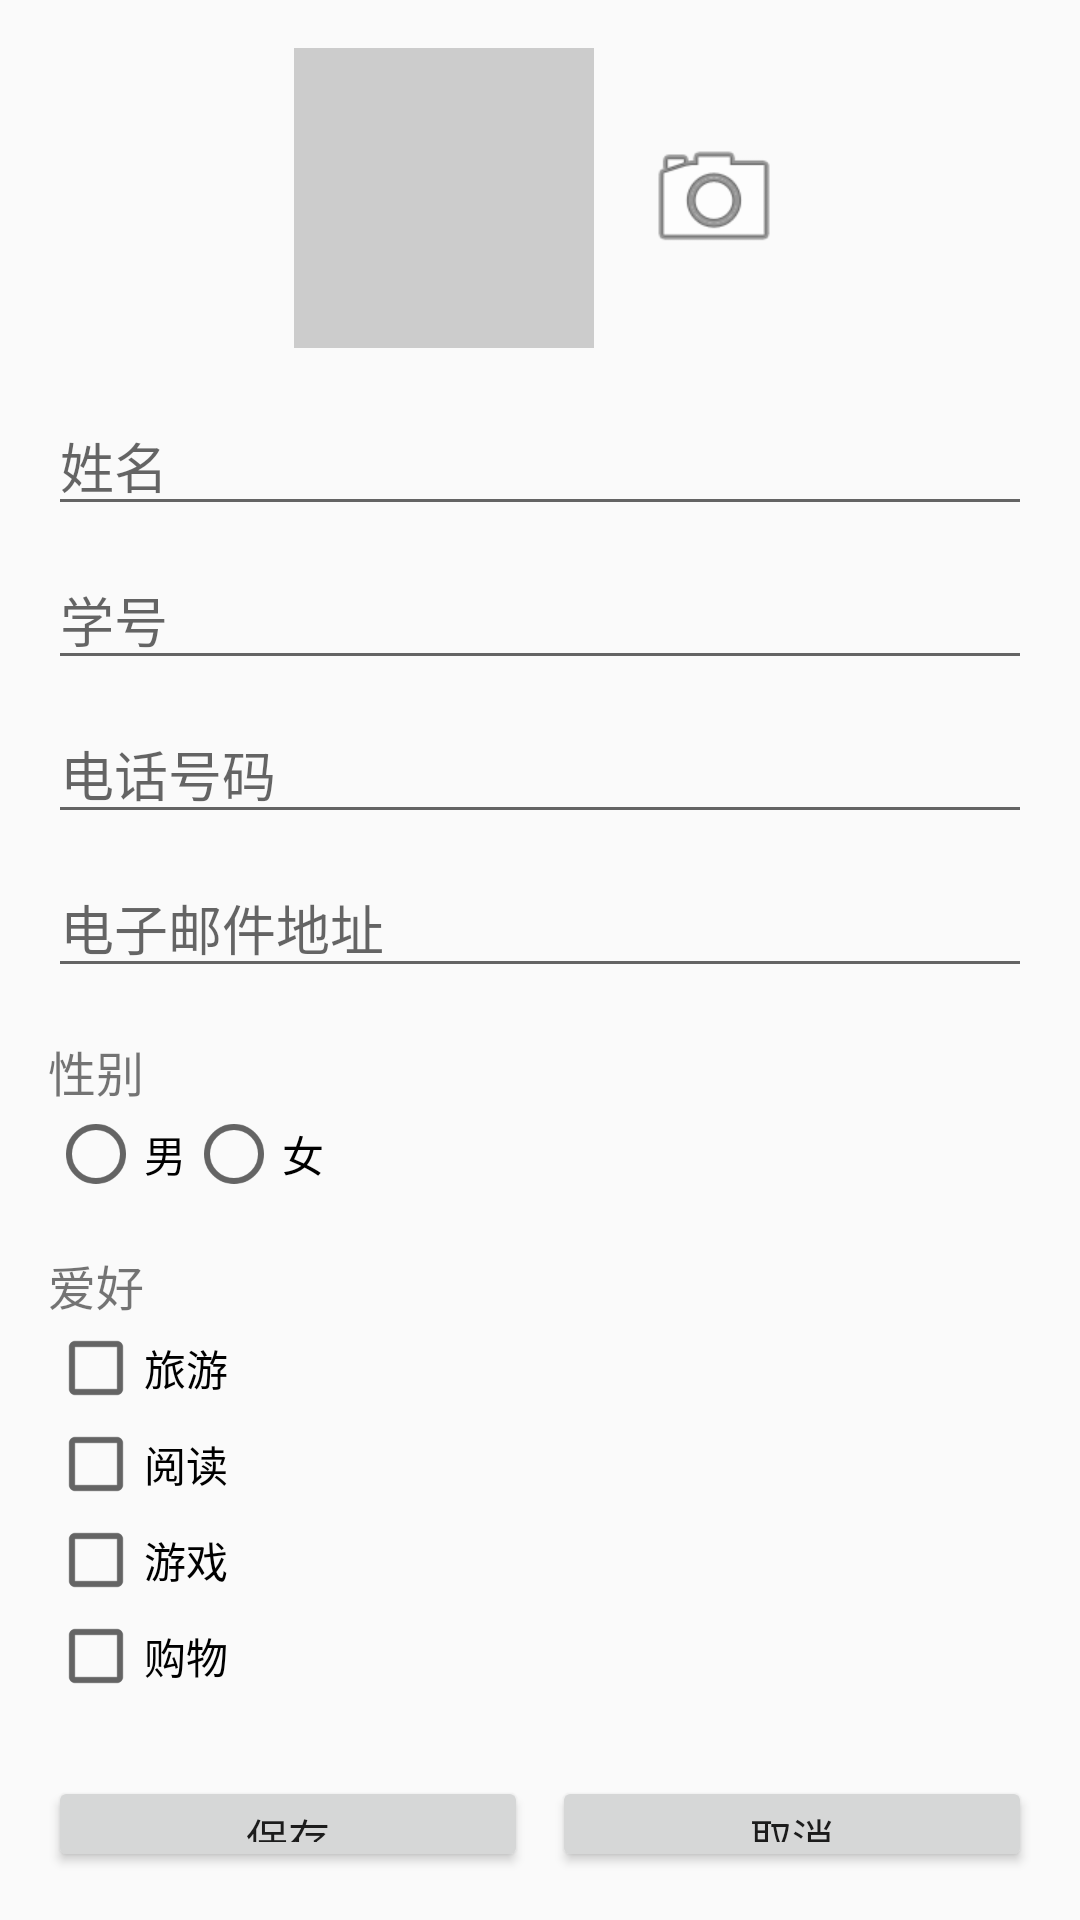

Icons on this 1080px×1920px Android screen, each with its box as (x1=x1, y1=y1, x2=x2, y2=y2):
camera: (x1=658, y1=151, x2=770, y2=240)
